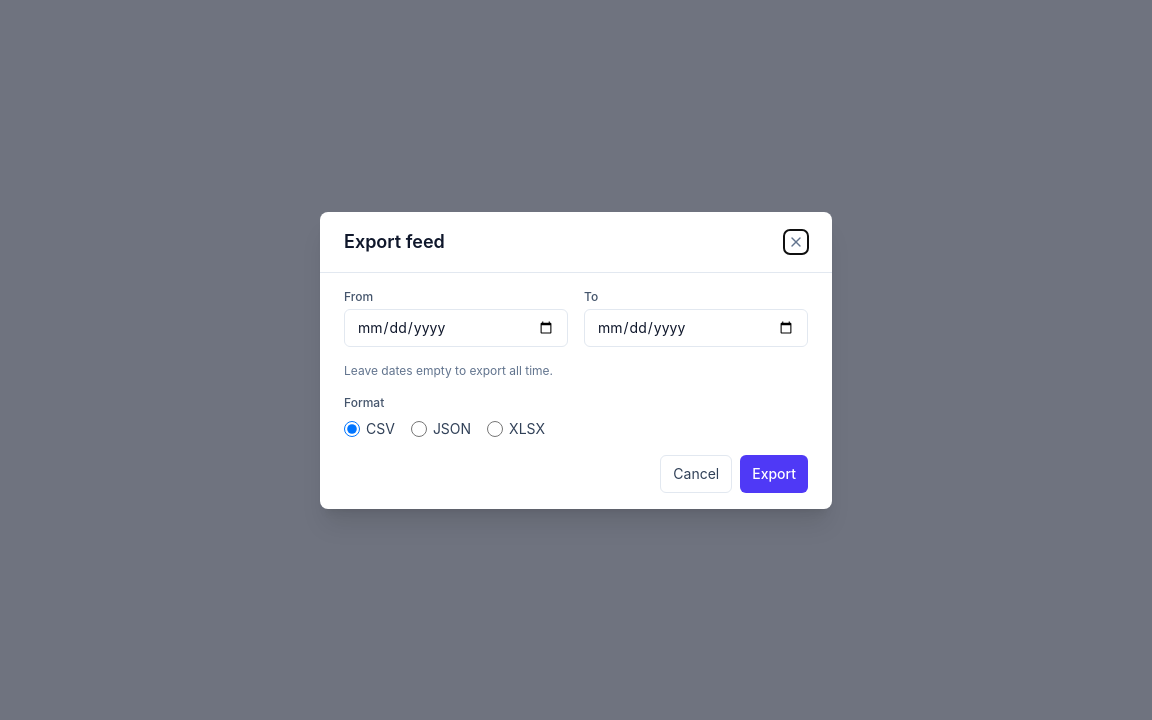
Test: ExportDialog › shows inline error when createExport rejects and stays open
Note: the export is triggered
Click the button "Export".
click(774, 474)  # box [740, 454, 808, 492]
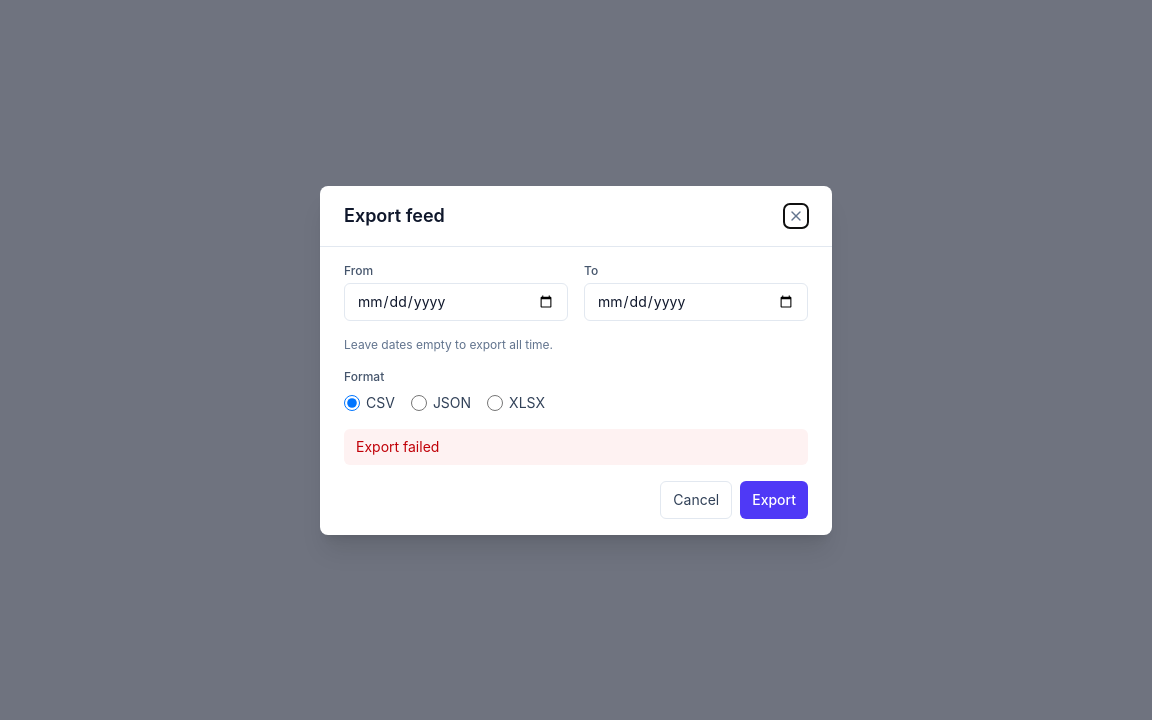
Check: the message "Export failed" is shown, box [344, 428, 808, 464]
Check: the message reads "Export failed", box [356, 438, 439, 454]
